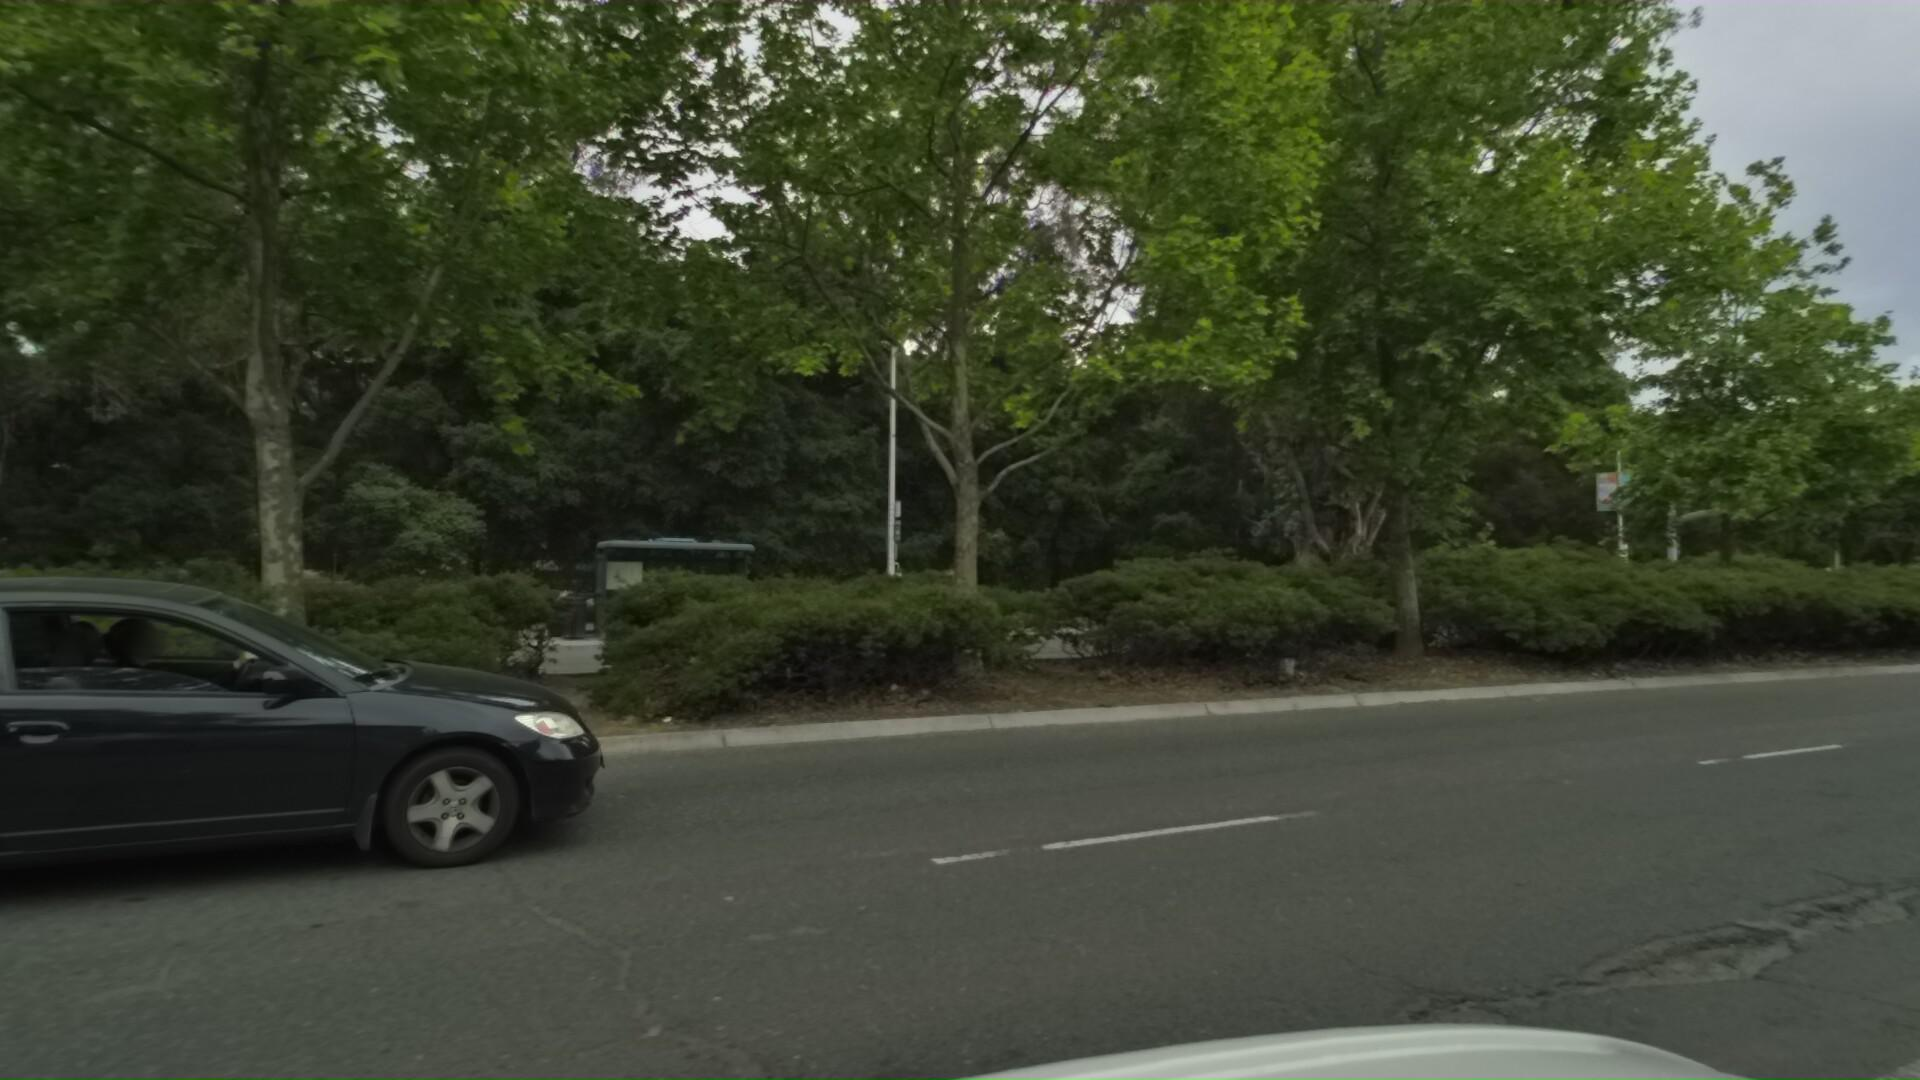car: (0, 553, 622, 1051)
